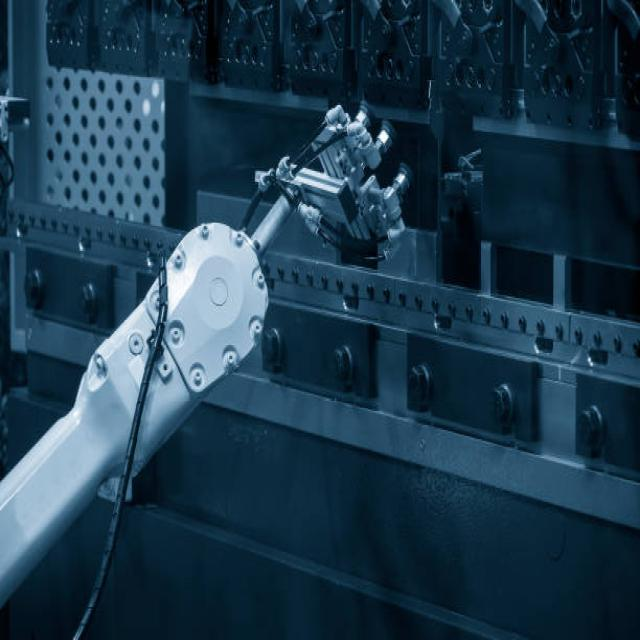Robotic-arm: (0, 181, 280, 640)
